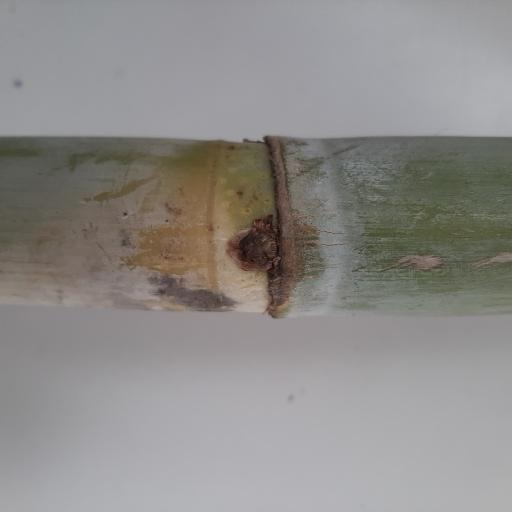Bud: (239, 229, 277, 268)
